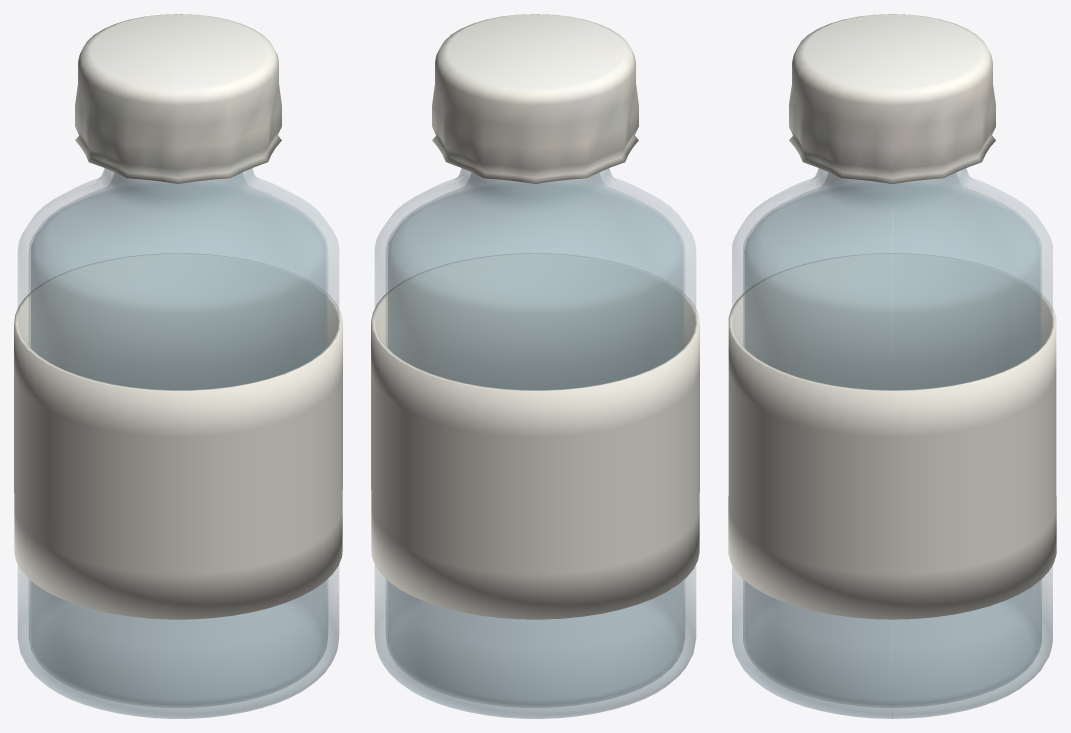
File: reagent-bottle-250ml.glb
3 views of the same model, side by side, from view 1: azimuth 30°, elevation 25°; view 2: azimuth 150°, elevation 25°; view 3: azimuth 270°, elevation 25° (orthographic).
Visible parts, largest first — view 1: reagent-bottle-250ml-label, reagent-bottle-250ml-glass, reagent-bottle-250ml-inner, reagent-bottle-250ml-cap; view 2: reagent-bottle-250ml-label, reagent-bottle-250ml-glass, reagent-bottle-250ml-inner, reagent-bottle-250ml-cap; view 3: reagent-bottle-250ml-label, reagent-bottle-250ml-glass, reagent-bottle-250ml-inner, reagent-bottle-250ml-cap.
Part boxes in pixels (x1,y1,x2,y2): reagent-bottle-250ml-label: [14, 253, 342, 619]; reagent-bottle-250ml-glass: [17, 168, 339, 718]; reagent-bottle-250ml-inner: [31, 182, 325, 705]; reagent-bottle-250ml-cap: [75, 14, 281, 183]; reagent-bottle-250ml-label: [371, 253, 699, 619]; reagent-bottle-250ml-glass: [374, 168, 696, 718]; reagent-bottle-250ml-inner: [388, 182, 682, 705]; reagent-bottle-250ml-cap: [432, 14, 638, 183]; reagent-bottle-250ml-label: [728, 253, 1056, 619]; reagent-bottle-250ml-glass: [732, 168, 1052, 718]; reagent-bottle-250ml-inner: [744, 182, 1040, 705]; reagent-bottle-250ml-cap: [789, 14, 995, 183].
Size of what is drawn, in the model's own units: 6.54 by 13.35 by 6.53.
